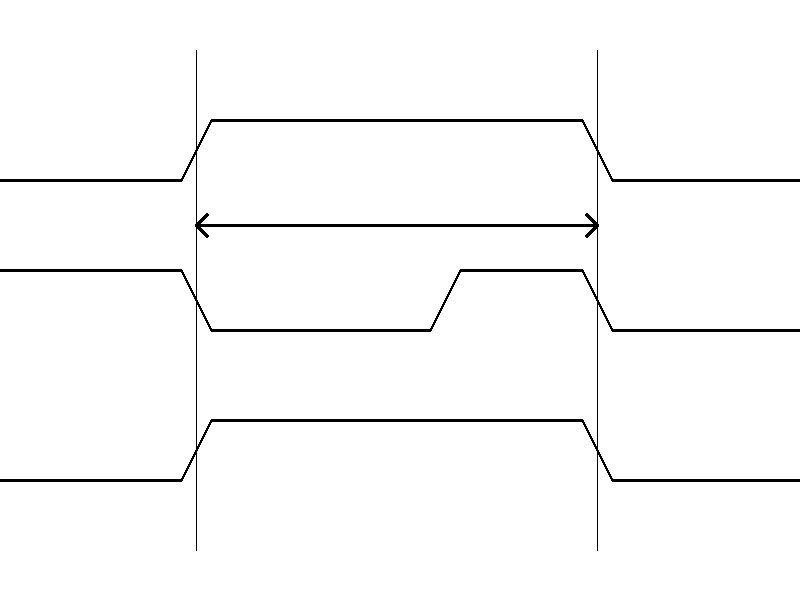double_arrow: (196, 210, 597, 240)
